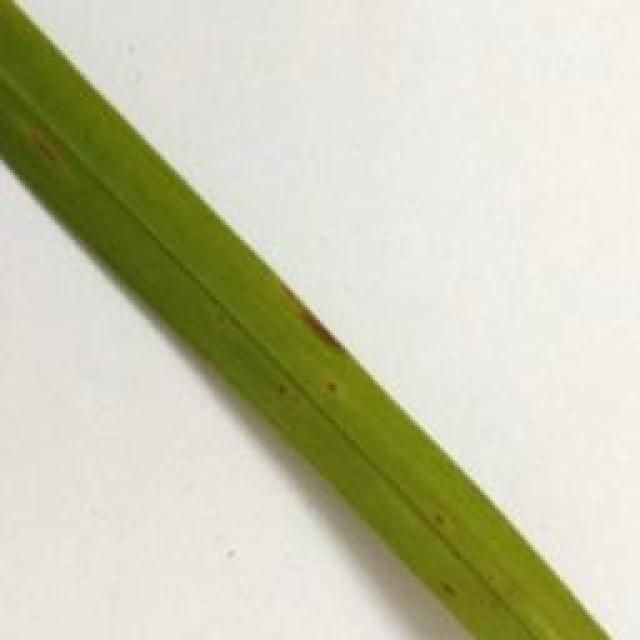Brown_Spot: (270, 281, 362, 364), (15, 124, 66, 176), (322, 379, 354, 408), (436, 579, 461, 604), (426, 510, 451, 533), (274, 382, 289, 403)
